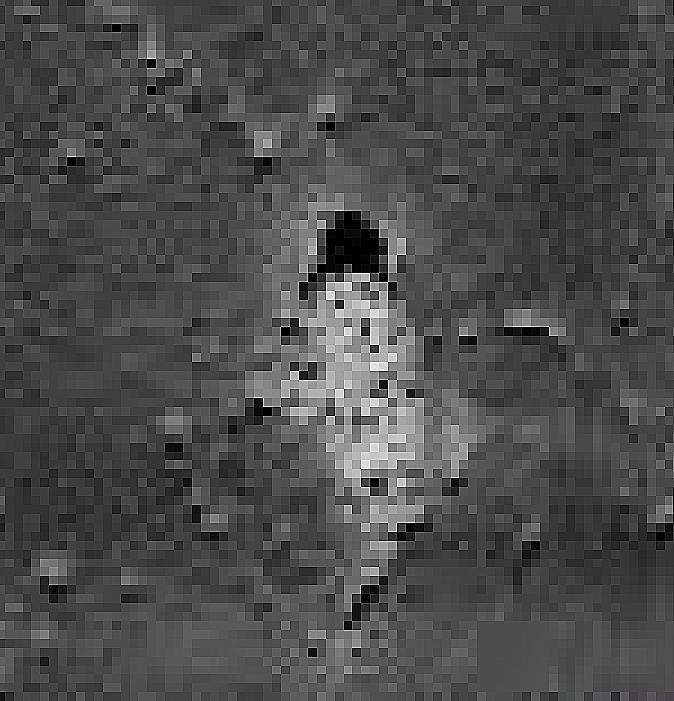ship: (275, 260, 467, 603)
